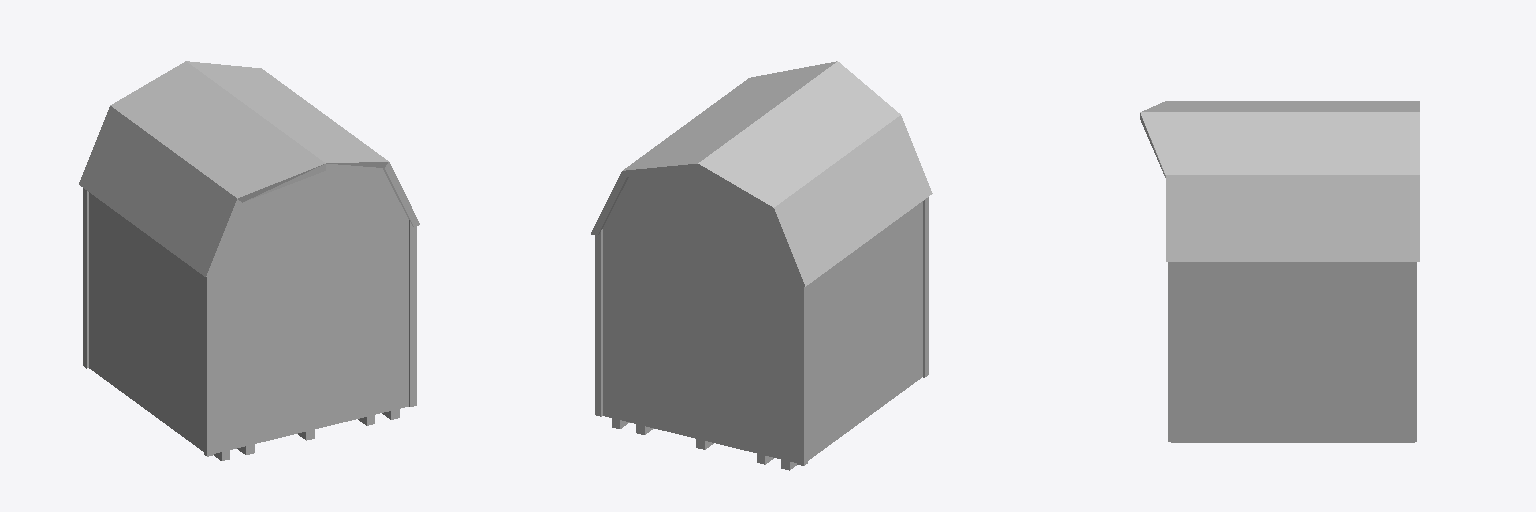
File: High Wall Barns_8x8.obj
3 views of the same model, side by side, from view 1: azimuth 30°, elevation 25°; view 2: azimuth 150°, elevation 25°; view 3: azimuth 270°, elevation 25° (orthographic).
Visible parts, largest first — view 1: High Wall Barns_8x8.obj; view 2: High Wall Barns_8x8.obj; view 3: High Wall Barns_8x8.obj.
Part boxes in pixels (x1,y1,x2,y2): High Wall Barns_8x8.obj: (79,61,419,460); High Wall Barns_8x8.obj: (591,61,932,470); High Wall Barns_8x8.obj: (1140,101,1419,442).
Bounding box in the file's own units: 2.48 × 3.17 × 2.79.